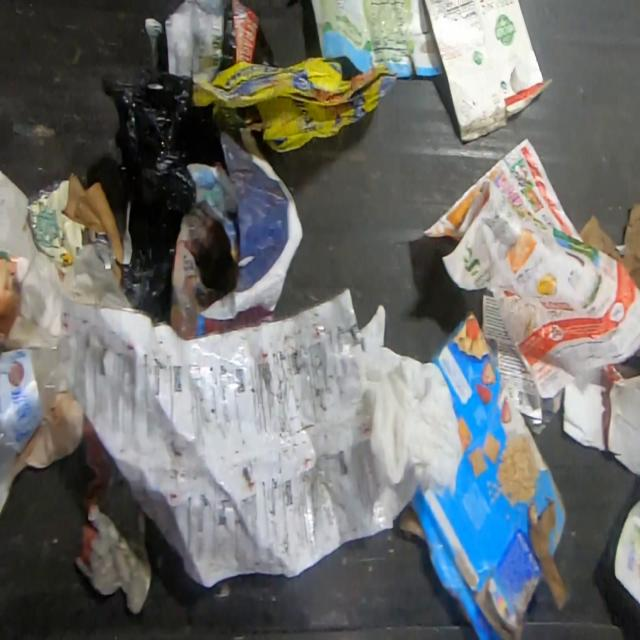cardboard: (396, 310, 572, 640), (192, 55, 398, 160), (423, 0, 554, 144), (310, 0, 444, 77), (144, 0, 261, 80), (61, 172, 124, 285), (579, 202, 639, 289), (0, 248, 29, 346)
rigid_plastic: (0, 334, 74, 486)
soft_plastic: (99, 63, 196, 323), (26, 177, 108, 280)
